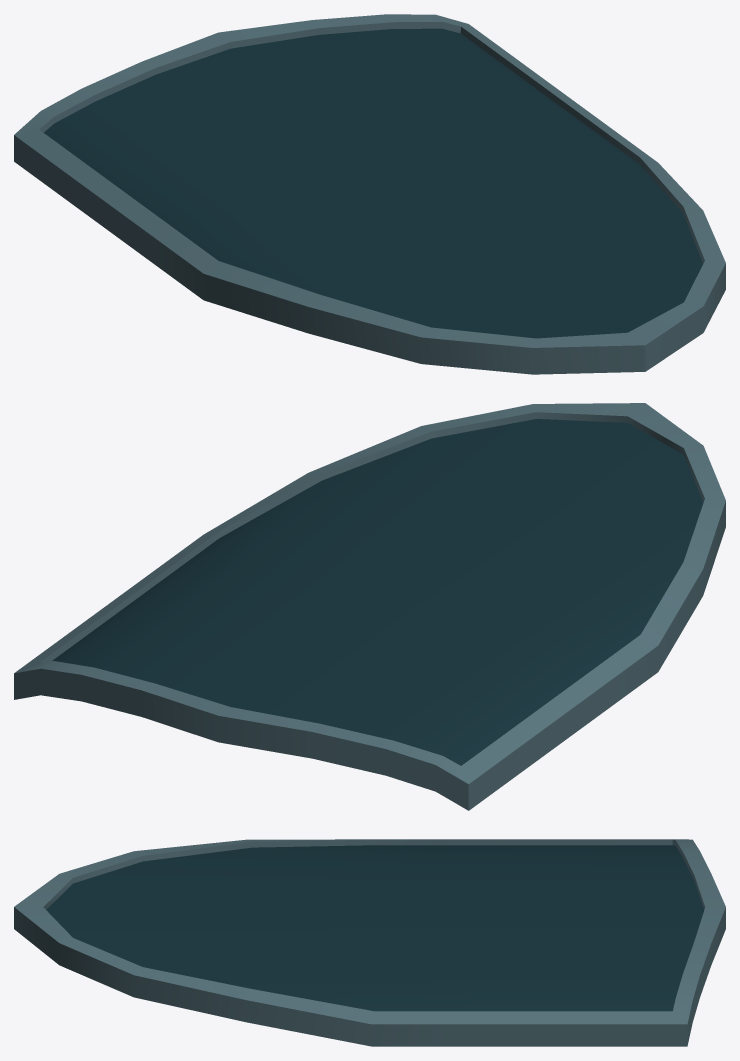
The model's file is obj_shield.FBX.
The picture shows the model from 3 angles, top to bottom: view 1: azimuth 30°, elevation 25°; view 2: azimuth 150°, elevation 25°; view 3: azimuth 270°, elevation 25°; orthographic projection. The views are drawn at different scales.
Visible parts, largest first — view 1: obj_shield; view 2: obj_shield; view 3: obj_shield.
Part boxes in pixels (x1=…): obj_shield: x1=14, y1=14, x2=725, y2=374; obj_shield: x1=14, y1=403, x2=725, y2=810; obj_shield: x1=14, y1=839, x2=725, y2=1046.
Bounding box in the file's own units: 1.39 × 0.2249 × 2.26.
